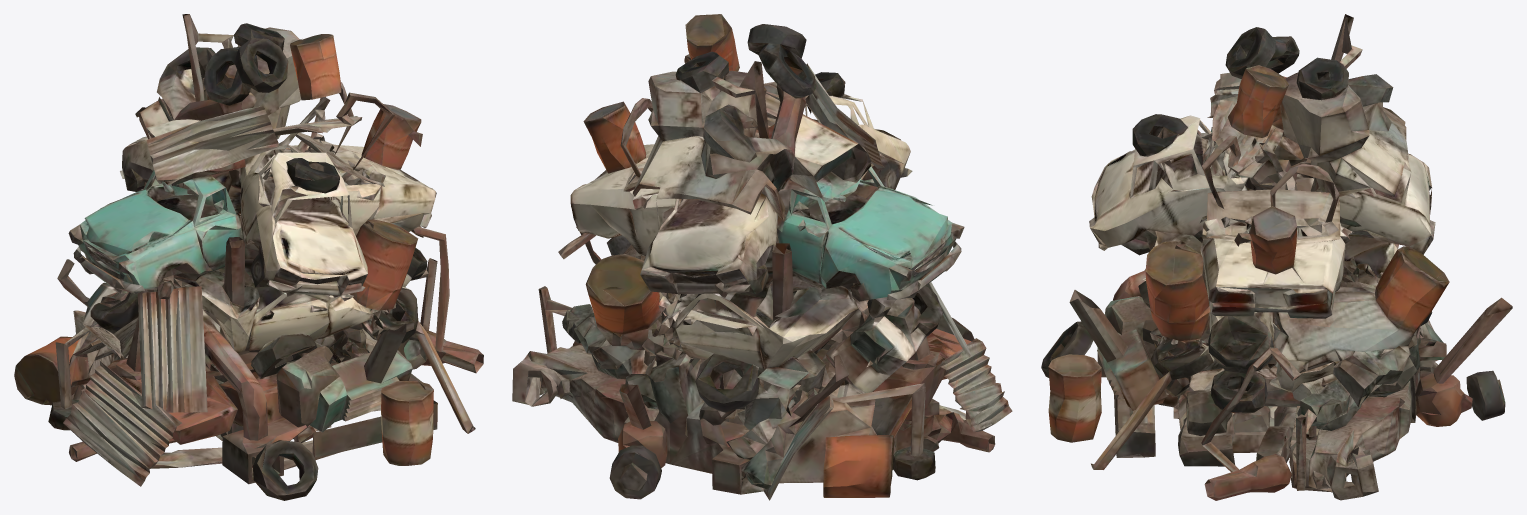
Rendered from junkpile.glb.
3 views of the same model, side by side, from view 1: azimuth 30°, elevation 25°; view 2: azimuth 150°, elevation 25°; view 3: azimuth 270°, elevation 25° (orthographic). The views are drawn at different scales.
Bounding box in the file's own units: 1.89 × 1.67 × 1.89.
Materials: 1 (1 with a texture image).
